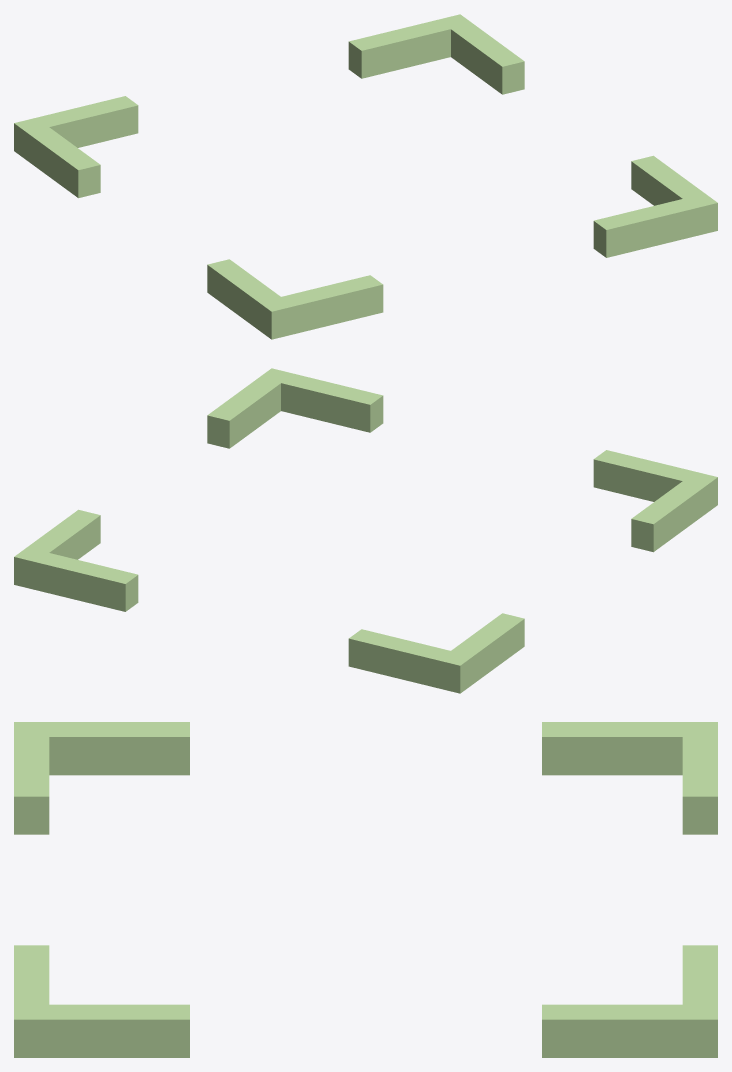
The model's file is selector.glb.
3 views of the same model, one above another, from view 1: azimuth 30°, elevation 25°; view 2: azimuth 150°, elevation 25°; view 3: azimuth 270°, elevation 25° (orthographic). The views are drawn at different scales.
Parts seen in each view (by area): view 1: Cube; view 2: Cube; view 3: Cube.
Boxes of the visible parts, x1,y1,x2,y2 form: Cube: [14, 14, 717, 339]; Cube: [14, 368, 717, 693]; Cube: [14, 722, 717, 1057].
Bounding box in the file's own units: 2 × 0.1197 × 2.
